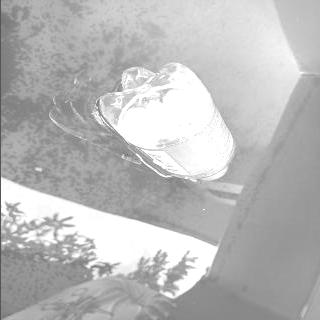bottle: (95, 61, 238, 182)
